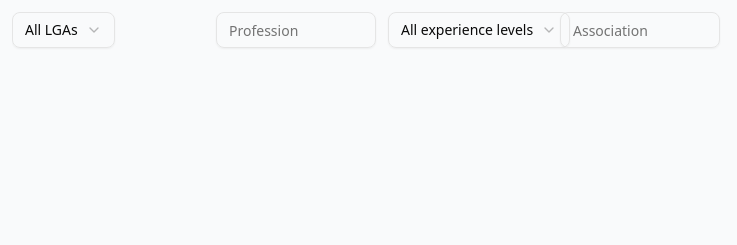
it: MarketplaceFilters — experience level (13-38 R4) › offers exactly the canonical buckets, labelled from the SAME table as the card hero stat
Click the dropdown with test id "experience-filter" at (479, 30), box top-left (388, 12), bottom-right (570, 48)
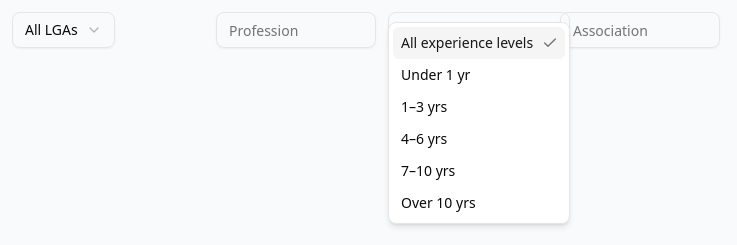
Check: the option "4–6 yrs" is shown, box top-left (401, 129), bottom-right (447, 148)
Check: the option "7–10 yrs" is shown, box top-left (401, 161), bottom-right (455, 180)
Check: the option "Over 10 yrs" is shown, box top-left (401, 193), bottom-right (476, 212)
